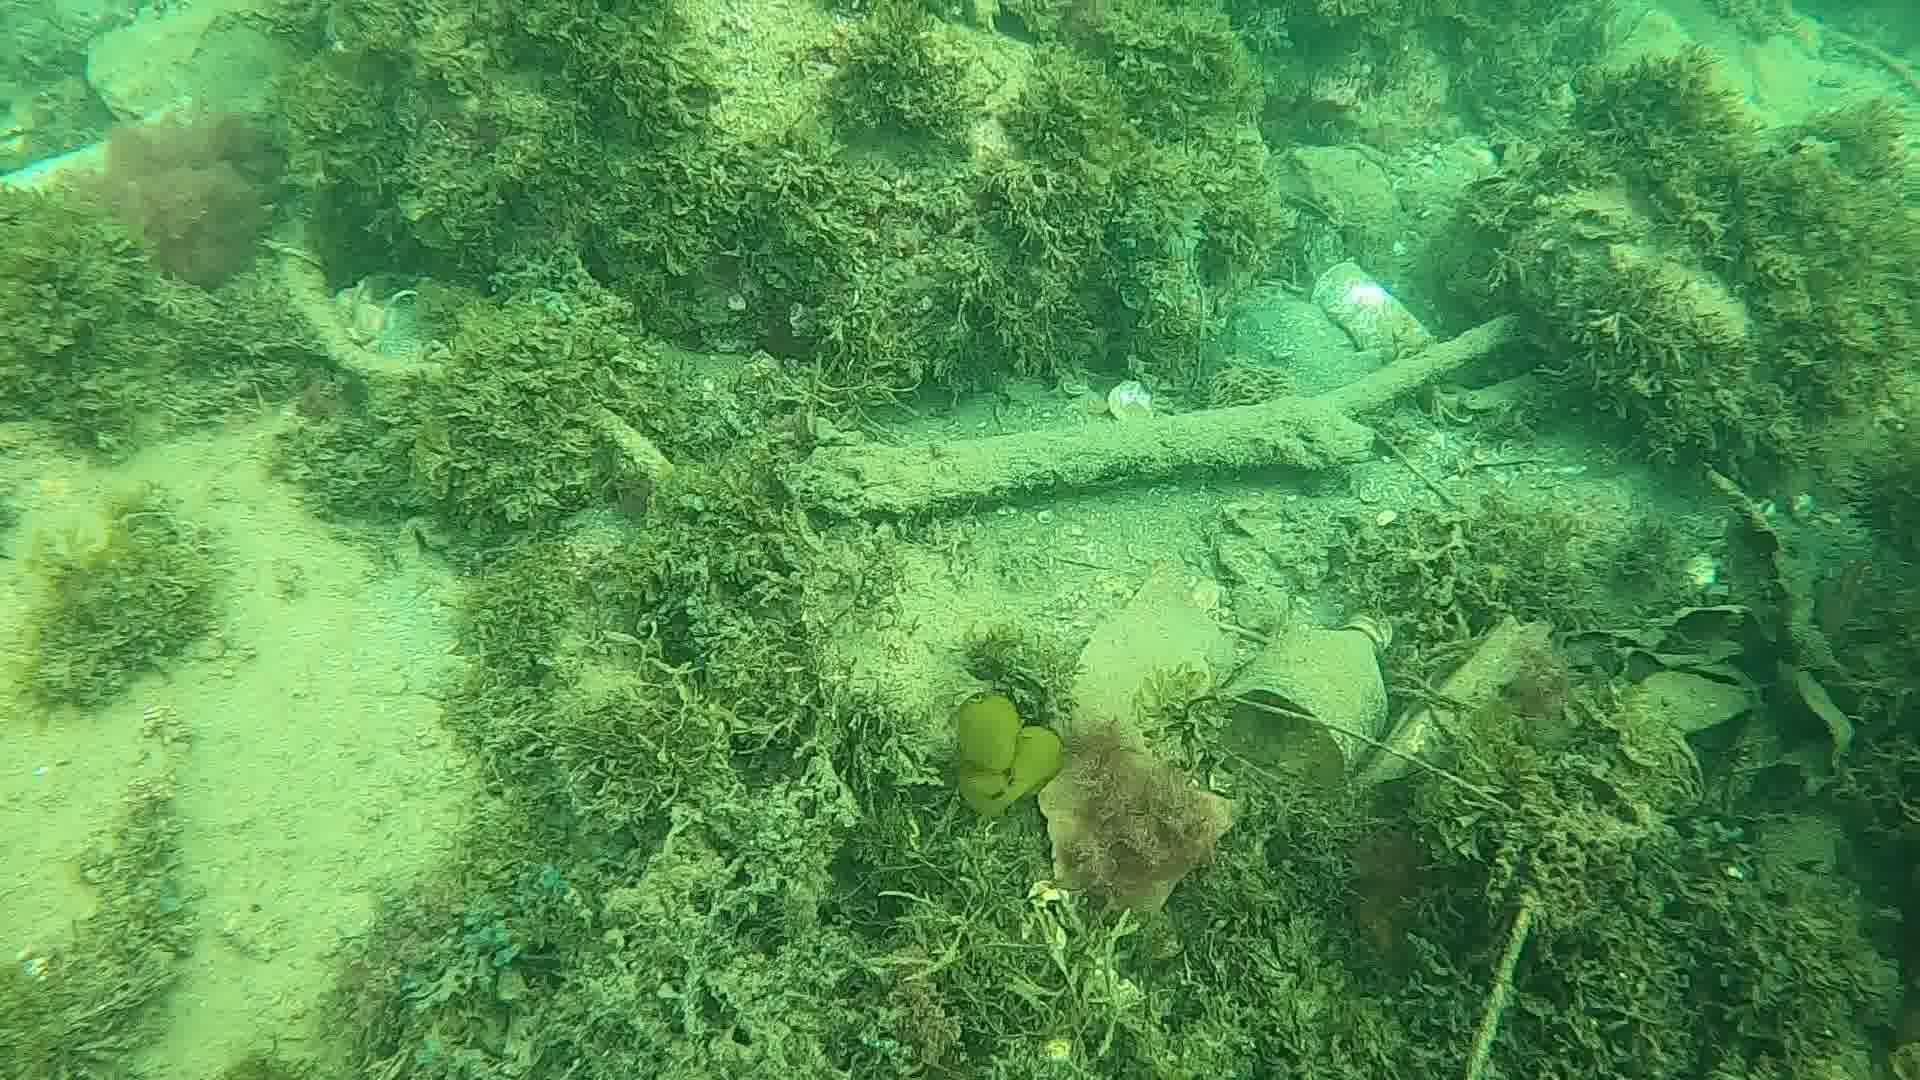rope: (269, 195, 451, 388), (1458, 905, 1534, 1080), (587, 406, 678, 487)
wood: (783, 311, 1518, 522)
